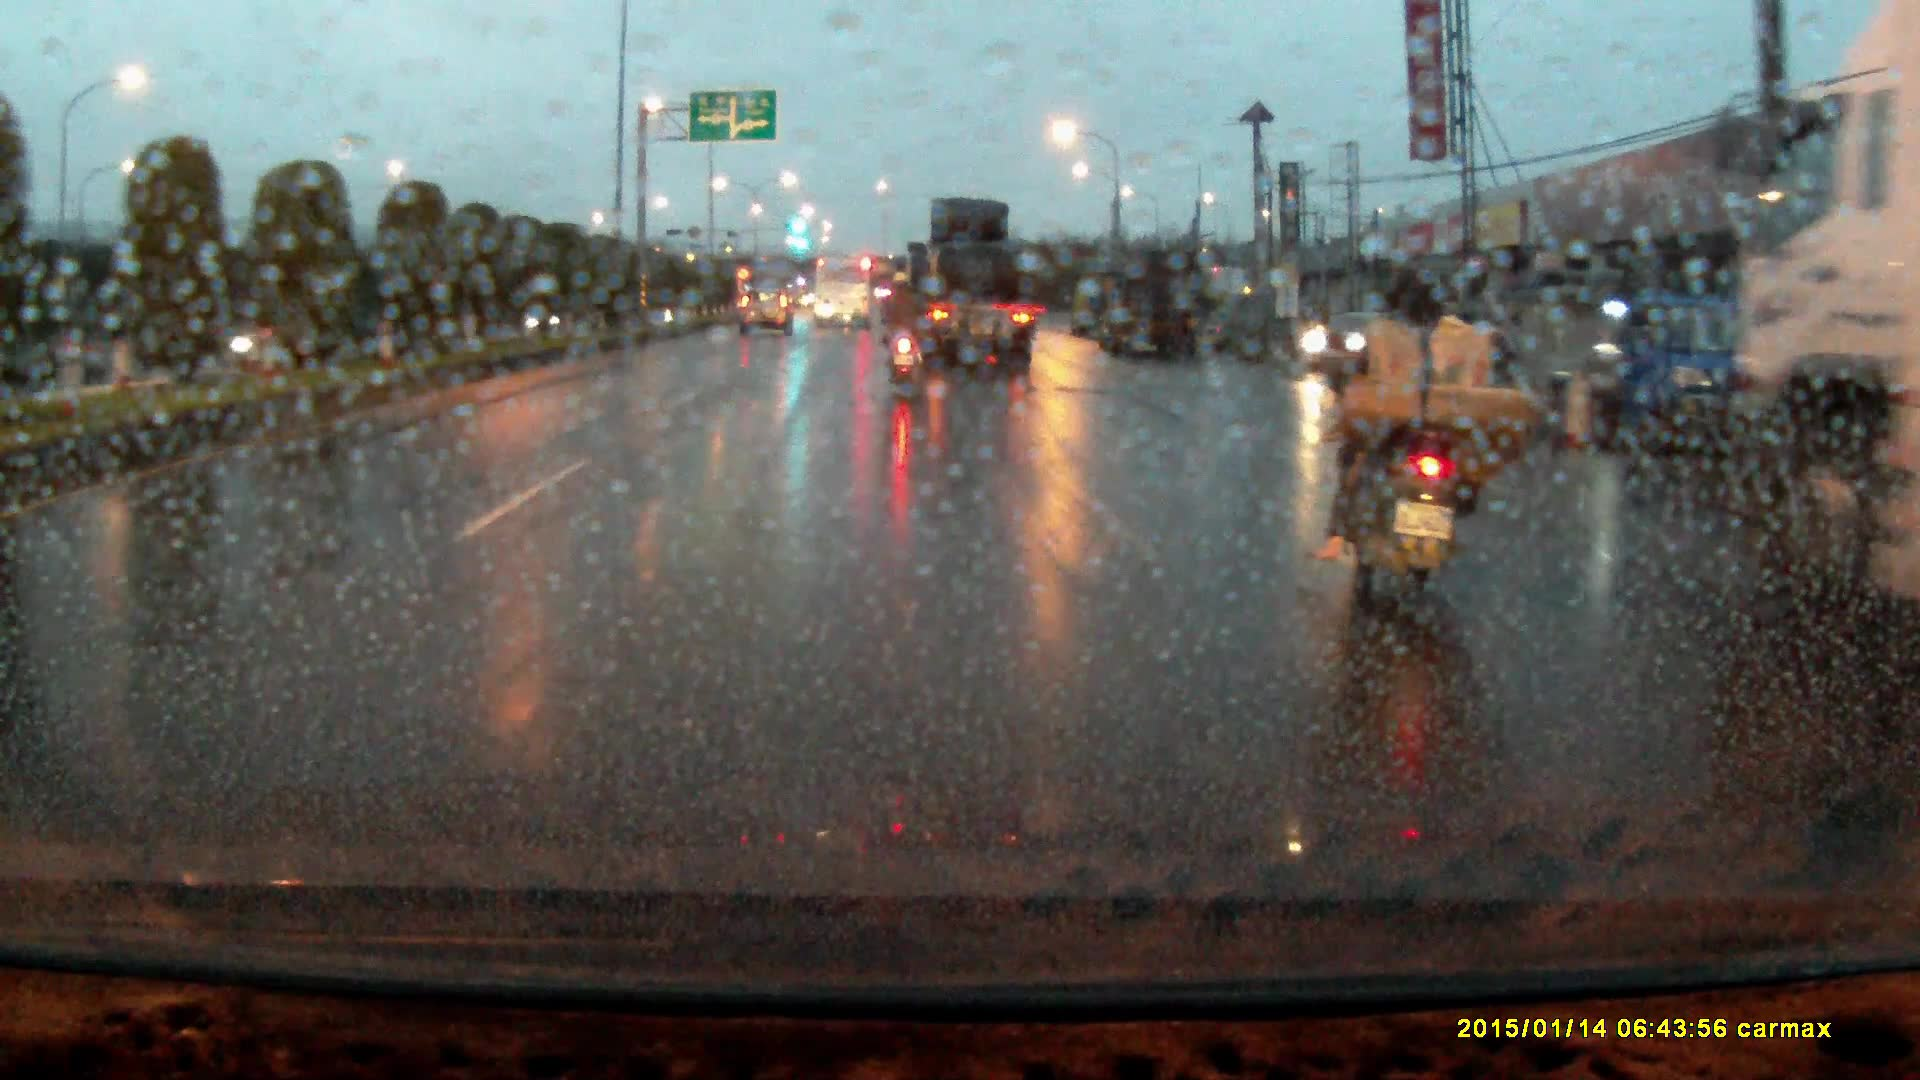rider: (1318, 251, 1545, 648), (880, 266, 932, 383)
vehicle: (1723, 50, 1920, 608), (1535, 286, 1740, 452), (892, 197, 1034, 374), (1107, 253, 1209, 364), (813, 255, 873, 332), (1069, 279, 1117, 338), (739, 291, 794, 340)
